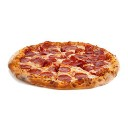pepperonipizza: (6, 42, 120, 89)
